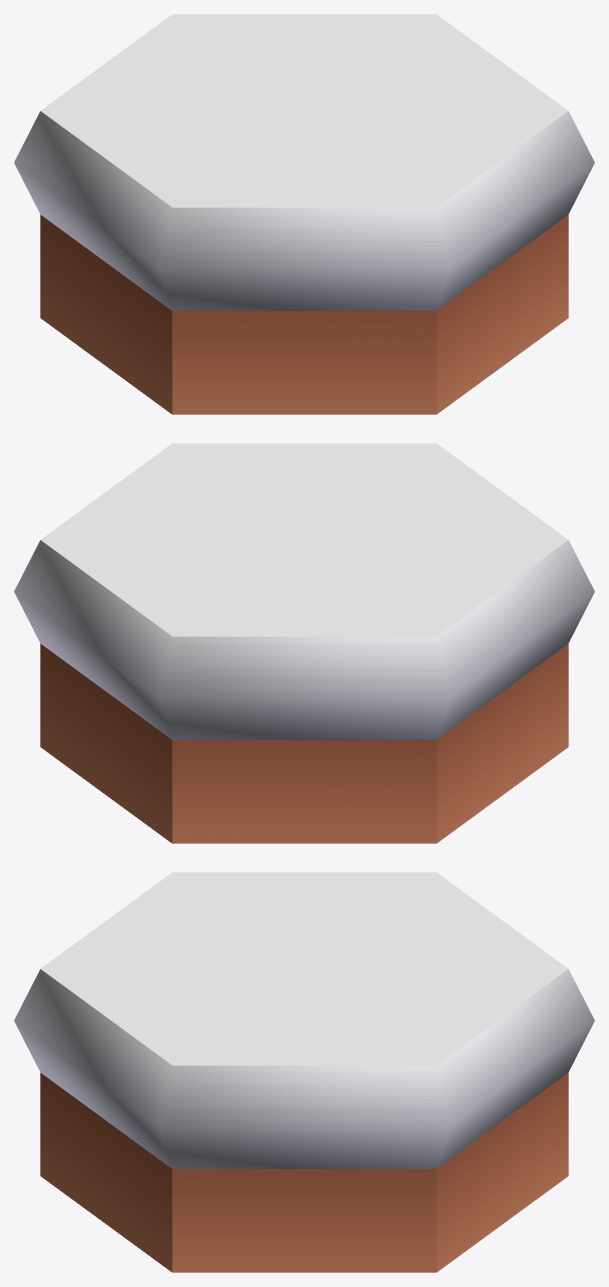
Rendered from block-snow-low-hexagon.glb.
The picture shows the model from 3 angles, top to bottom: view 1: azimuth 30°, elevation 25°; view 2: azimuth 150°, elevation 25°; view 3: azimuth 270°, elevation 25°; orthographic projection.
Parts seen in each view (by area): view 1: block-snow-low-hexagon; view 2: block-snow-low-hexagon; view 3: block-snow-low-hexagon.
Part boxes in pixels (box(x1,y1,x2,y2)): block-snow-low-hexagon: box(14, 14, 594, 414); block-snow-low-hexagon: box(14, 443, 594, 843); block-snow-low-hexagon: box(14, 872, 594, 1272).
Size of the model in its own units: 1.1 by 0.5 by 1.27.
1 material, 1 textured.
